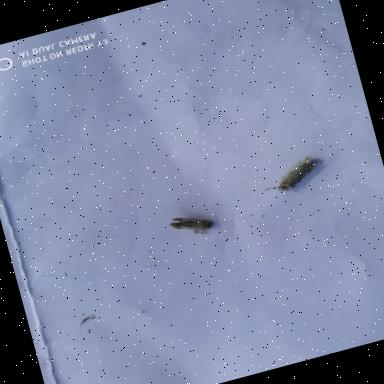pbw: (256, 152, 332, 202), (160, 202, 224, 249)
